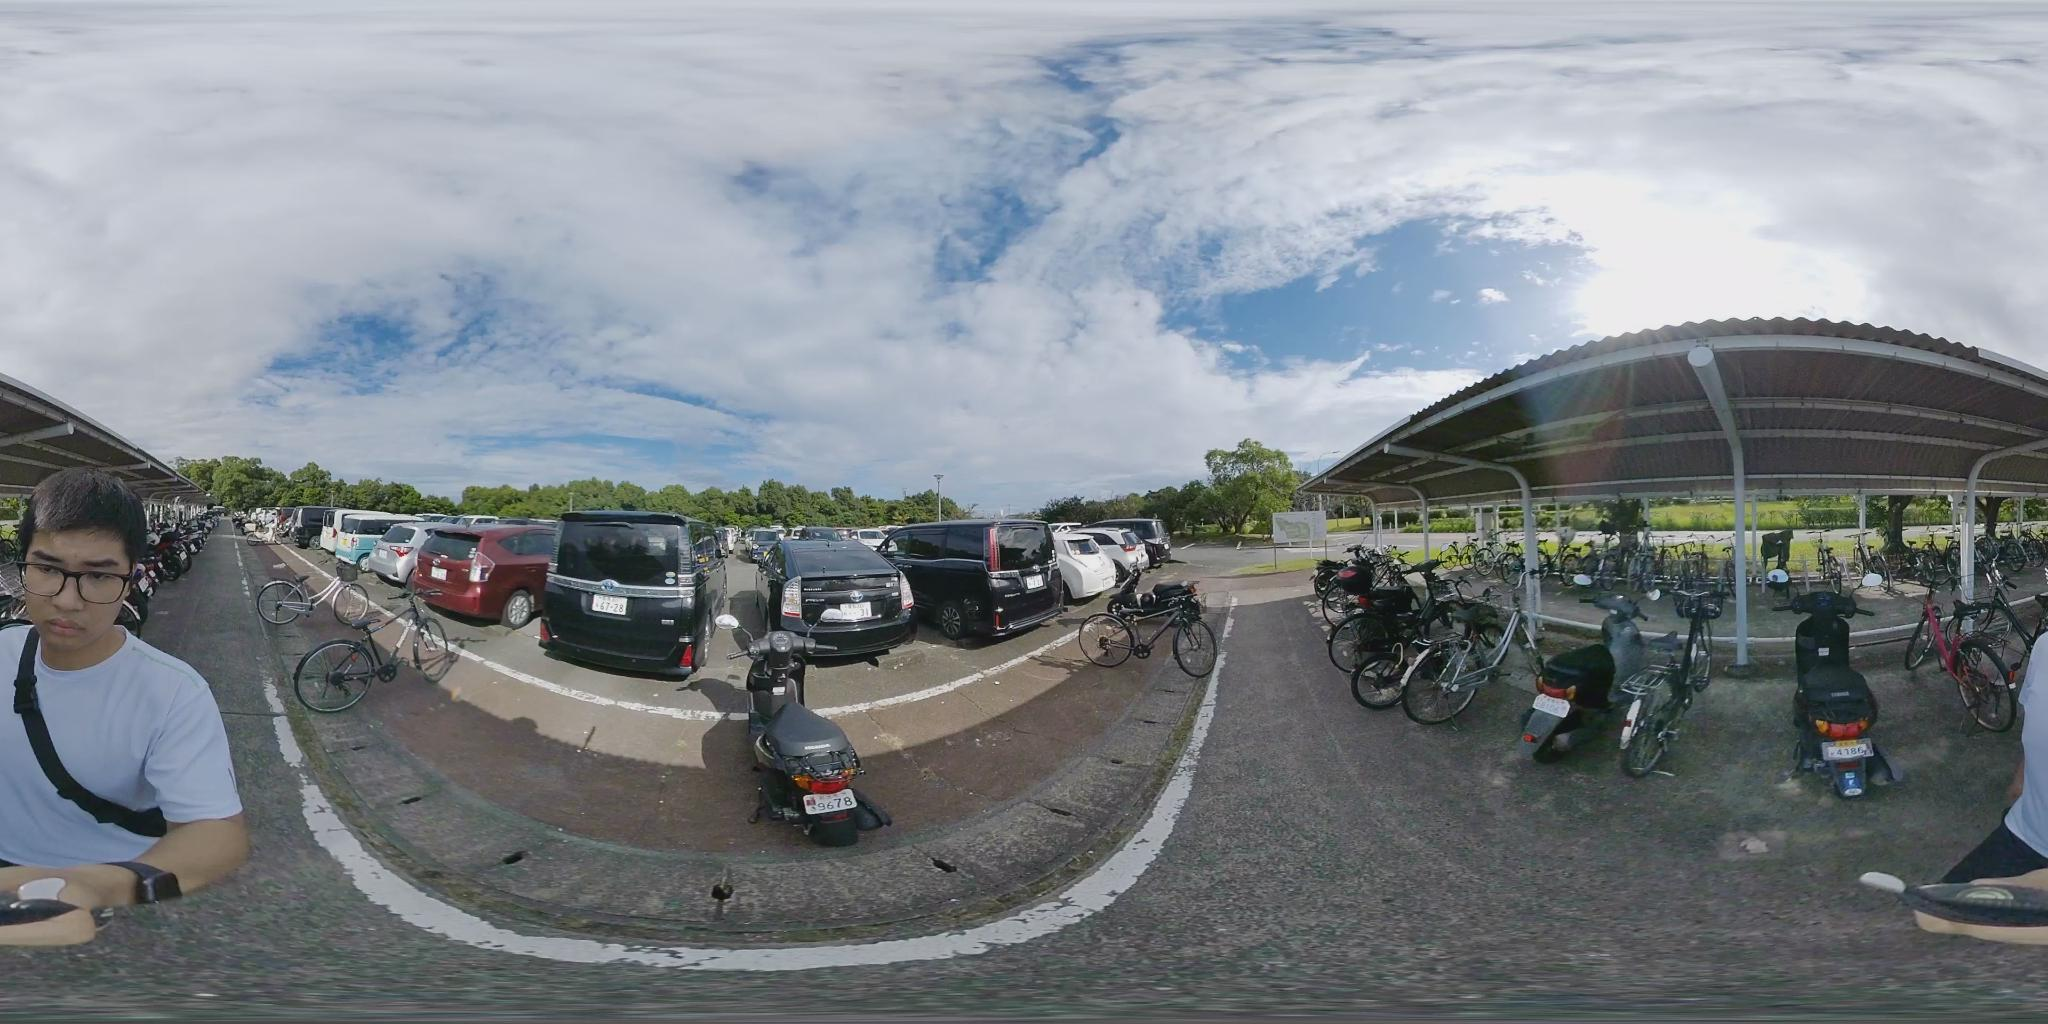car: (552, 507, 731, 686), (758, 545, 917, 664), (394, 521, 563, 631), (887, 525, 1059, 631), (334, 512, 438, 579)
